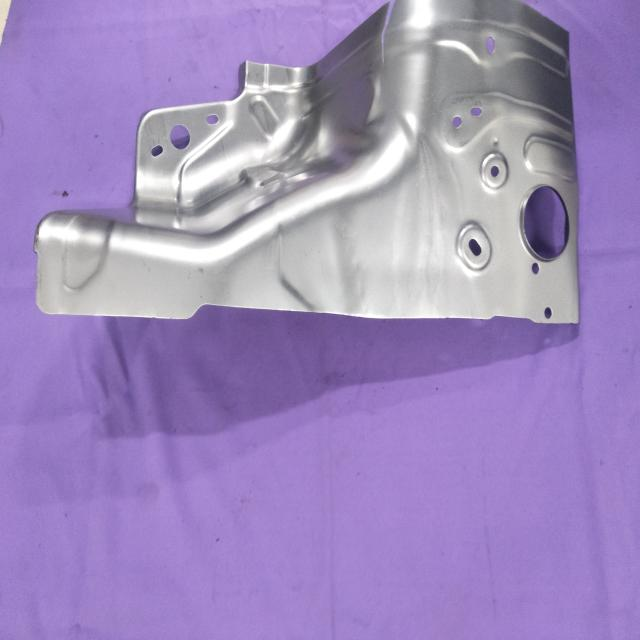Defect: (374, 0, 401, 70)
